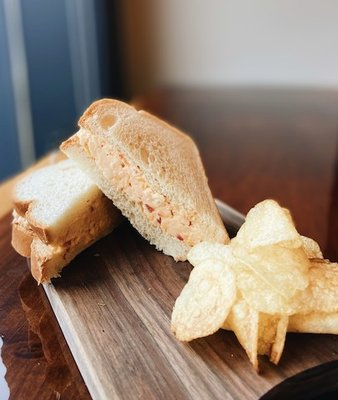soup: (6, 97, 231, 284)
